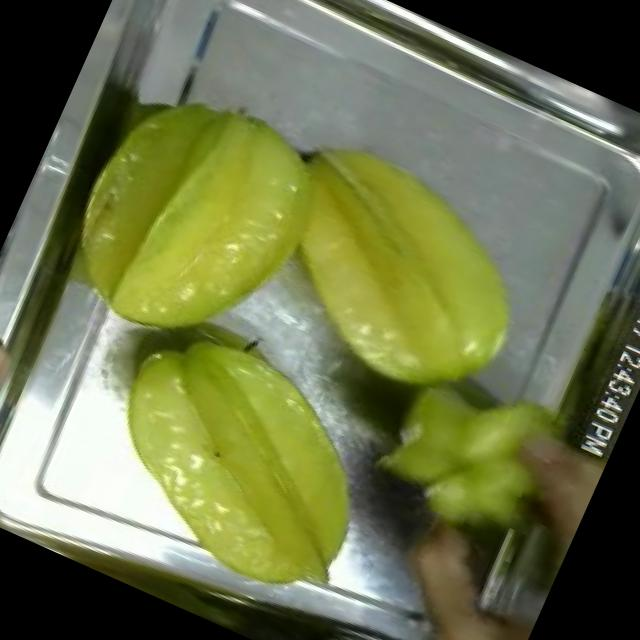fruit: (59, 292, 422, 632), (26, 45, 360, 390), (236, 116, 570, 433), (0, 317, 48, 516)
